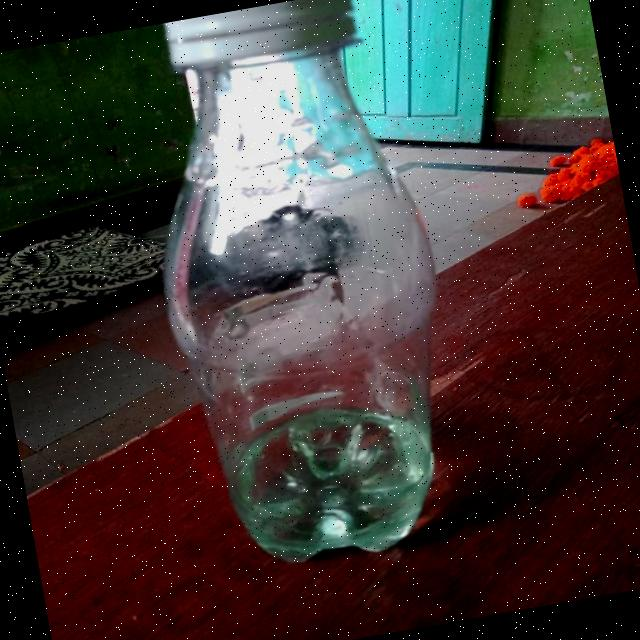bottle: (122, 0, 487, 582)
cap: (159, 0, 363, 76)
